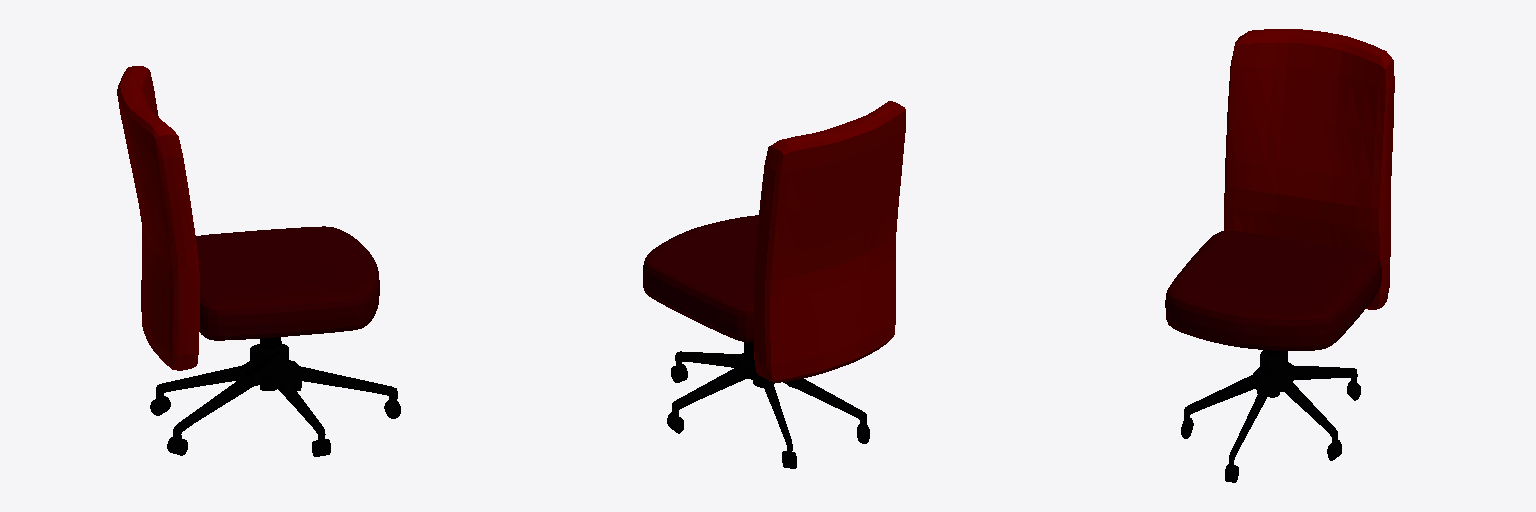
Rendered from Chair1.obj.
The picture shows the model from 3 angles: view 1: azimuth 30°, elevation 25°; view 2: azimuth 150°, elevation 25°; view 3: azimuth 270°, elevation 25°; orthographic projection.
Parts seen in each view (by area): view 1: Chair1_Chair_Cube.002, Chair3_Cube.069_Cube.000, Chair2_Cylinder.002_Cylinder.000; view 2: Chair3_Cube.069_Cube.000, Chair1_Chair_Cube.002, Chair2_Cylinder.002_Cylinder.000; view 3: Chair3_Cube.069_Cube.000, Chair1_Chair_Cube.002, Chair2_Cylinder.002_Cylinder.000.
Boxes of the visible parts, x1=… form: Chair1_Chair_Cube.002: x1=196, y1=226, x2=379, y2=340; Chair3_Cube.069_Cube.000: x1=117, y1=66, x2=199, y2=370; Chair2_Cylinder.002_Cylinder.000: x1=150, y1=337, x2=400, y2=456; Chair3_Cube.069_Cube.000: x1=754, y1=101, x2=905, y2=382; Chair1_Chair_Cube.002: x1=643, y1=215, x2=758, y2=342; Chair2_Cylinder.002_Cylinder.000: x1=667, y1=342, x2=869, y2=468; Chair3_Cube.069_Cube.000: x1=1224, y1=29, x2=1394, y2=309; Chair1_Chair_Cube.002: x1=1165, y1=231, x2=1381, y2=350; Chair2_Cylinder.002_Cylinder.000: x1=1181, y1=350, x2=1360, y2=482.
Size of the model in its own units: 77.72 by 105 by 64.09.